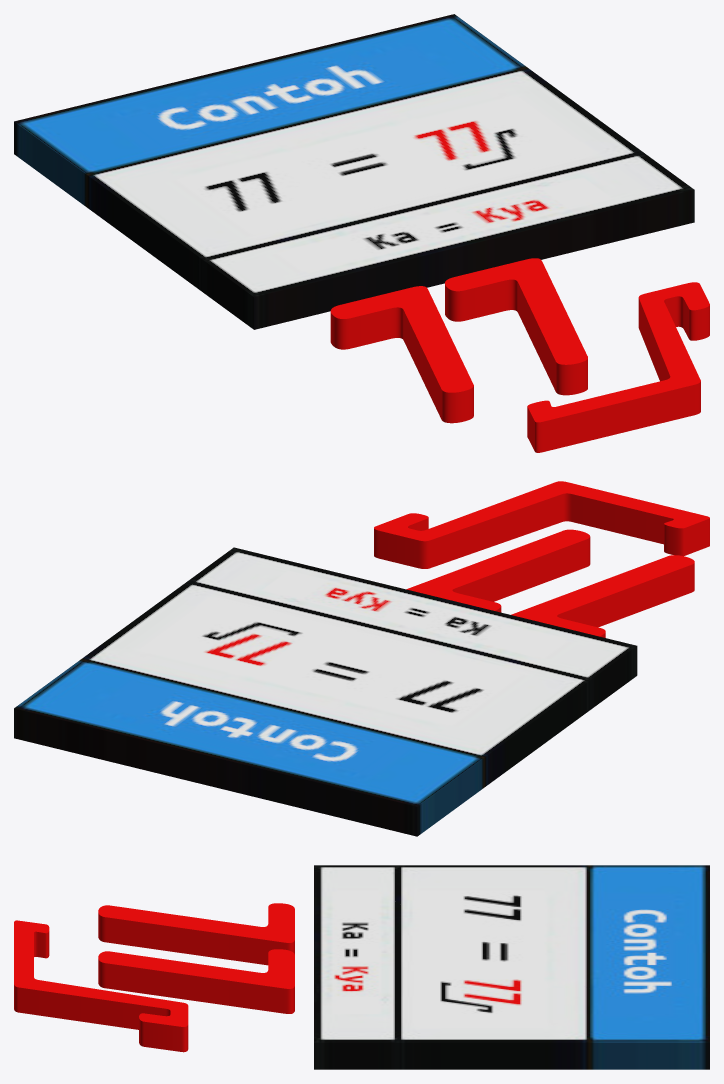
Rendered from kya.fbx.
3 views of the same model, one above another, from view 1: azimuth 30°, elevation 25°; view 2: azimuth 150°, elevation 25°; view 3: azimuth 270°, elevation 25° (orthographic). The views are drawn at different scales.
Visible parts, largest first — view 1: contoh-y-Rarangken, Text; view 2: contoh-y-Rarangken, Text; view 3: contoh-y-Rarangken, Text.
Part boxes in pixels (box(x1,y1,x2,y2)): contoh-y-Rarangken: box(14, 14, 694, 329); Text: box(330, 258, 709, 452); contoh-y-Rarangken: box(14, 547, 637, 836); Text: box(374, 481, 709, 637); contoh-y-Rarangken: box(314, 865, 709, 1069); Text: box(14, 903, 294, 1052).
Bounding box in the file's own units: 1.06 × 0.11 × 1.76.
2 materials, 1 textured.
